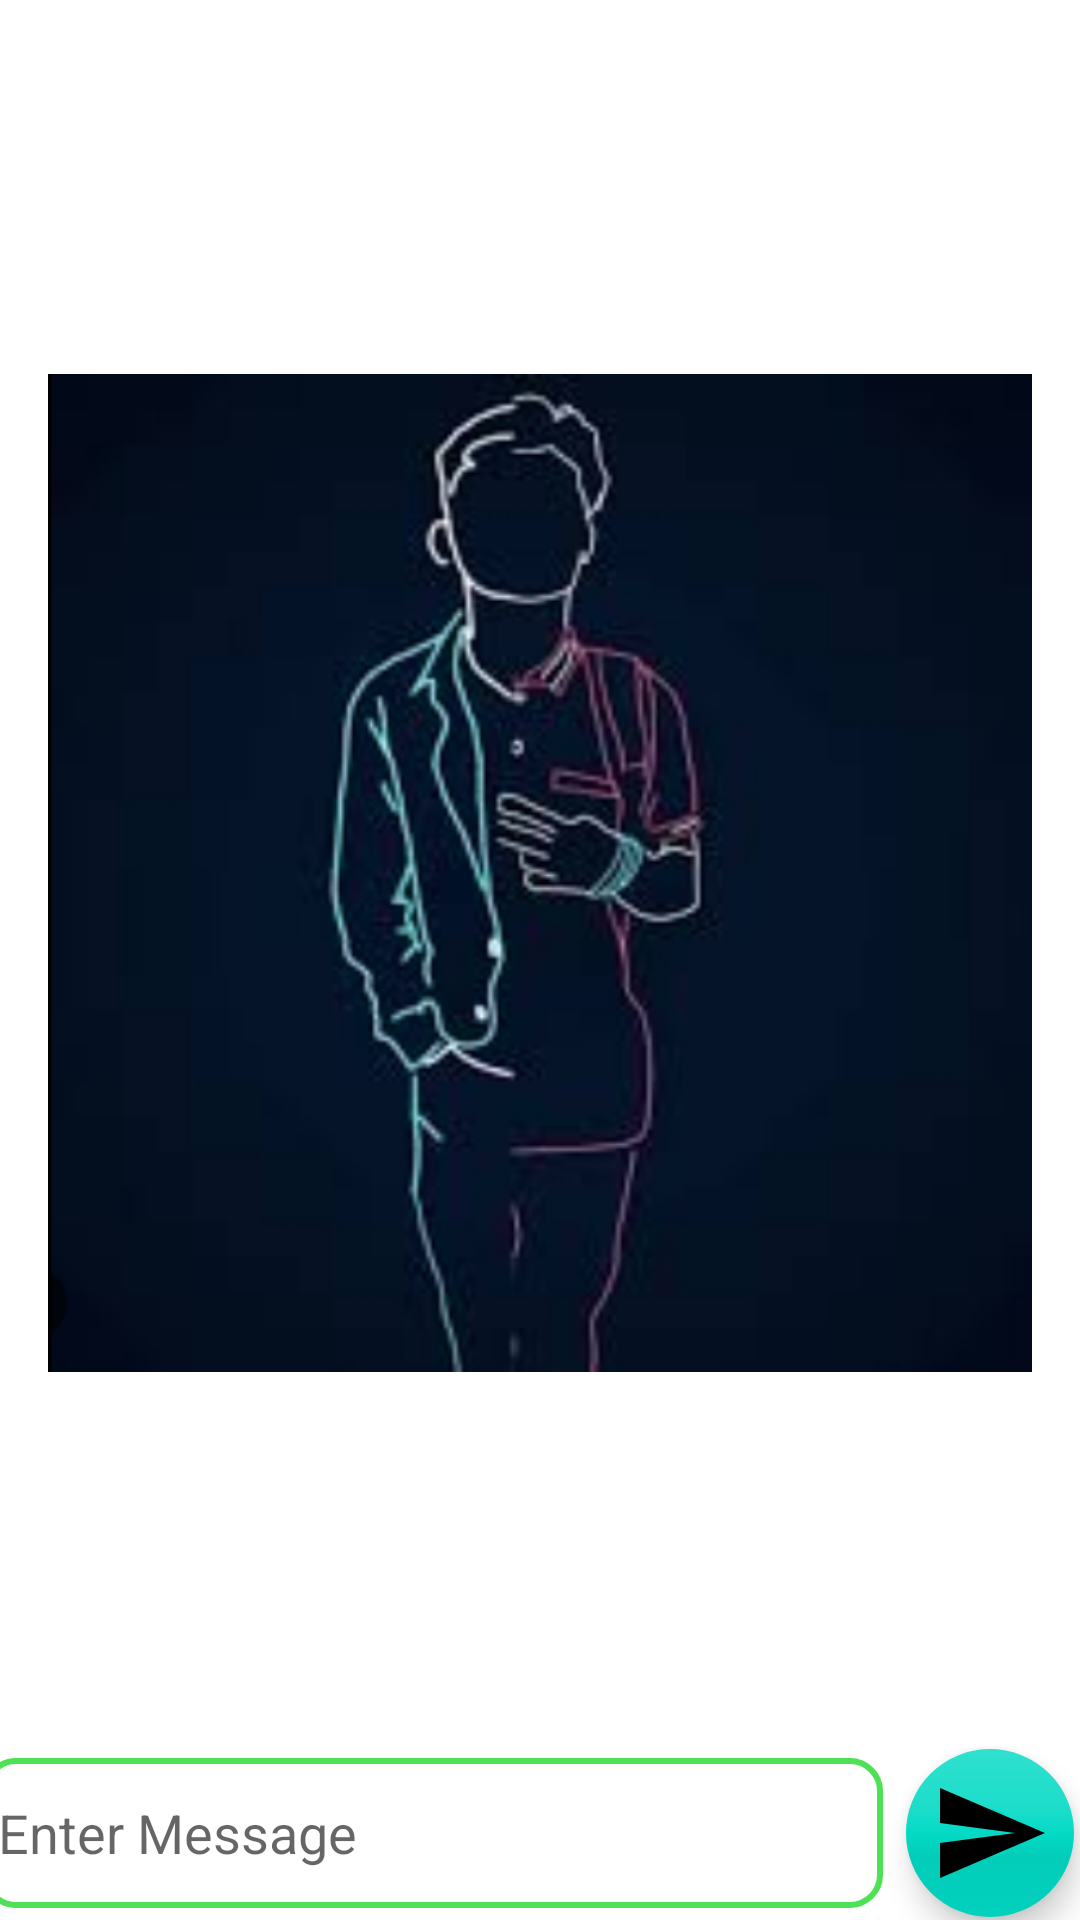

Named icons in this screenshot (1080*1920) and their centers, point (x, y):
send: point (990, 1833)
